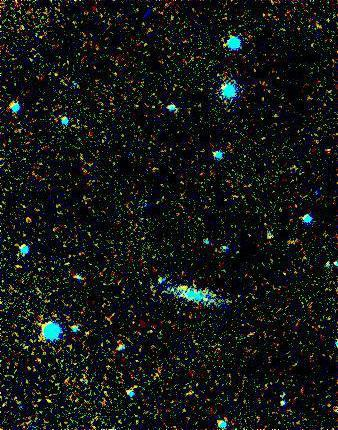star: (165, 271, 195, 301)
